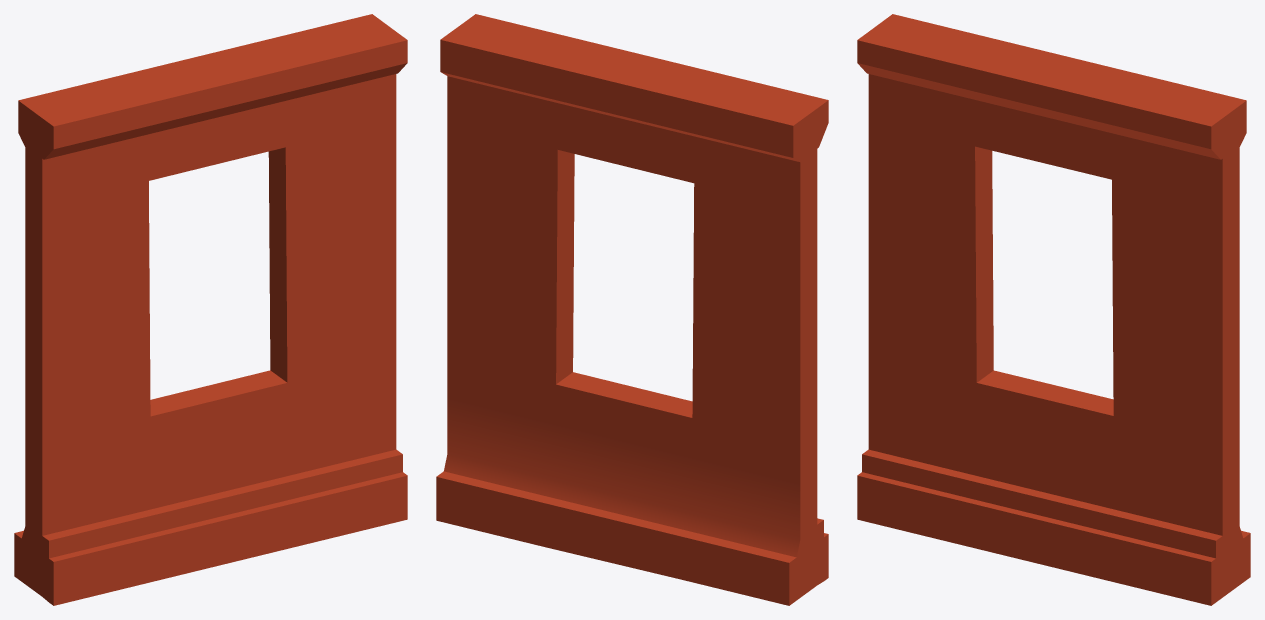
Rendered from ShortWall-Window.FBX.
3 views of the same model, side by side, from view 1: azimuth 30°, elevation 25°; view 2: azimuth 150°, elevation 25°; view 3: azimuth 330°, elevation 25° (orthographic).
Parts seen in each view (by area): view 1: ShortWall-Window; view 2: ShortWall-Window; view 3: ShortWall-Window.
Part boxes in pixels (box(x1,y1,x2,y2)): ShortWall-Window: box(14, 14, 407, 605); ShortWall-Window: box(436, 14, 828, 605); ShortWall-Window: box(857, 14, 1250, 605).
Size of the model in its own units: 118 by 153 by 22.83.
